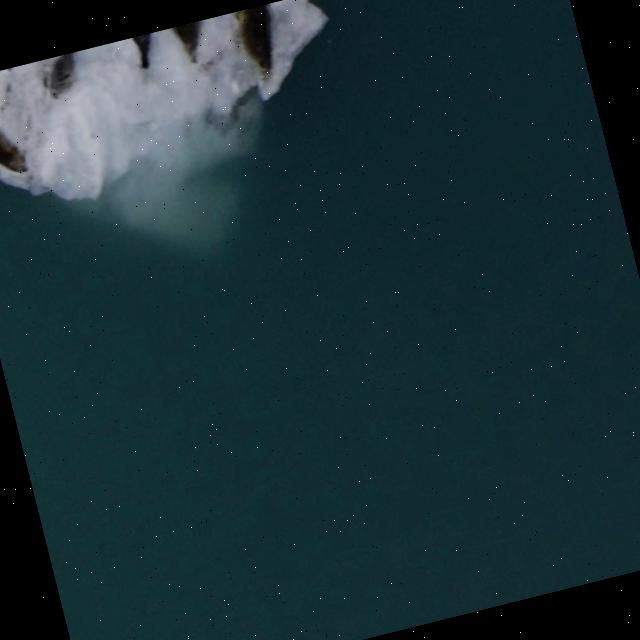seal: (237, 4, 279, 81), (0, 127, 32, 182), (176, 20, 214, 66), (50, 52, 76, 99), (132, 32, 160, 71)
